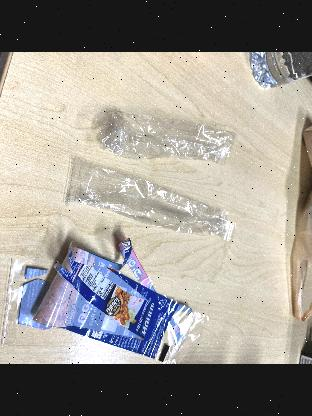Others: (6, 238, 208, 364), (66, 164, 234, 247), (93, 112, 245, 164)
